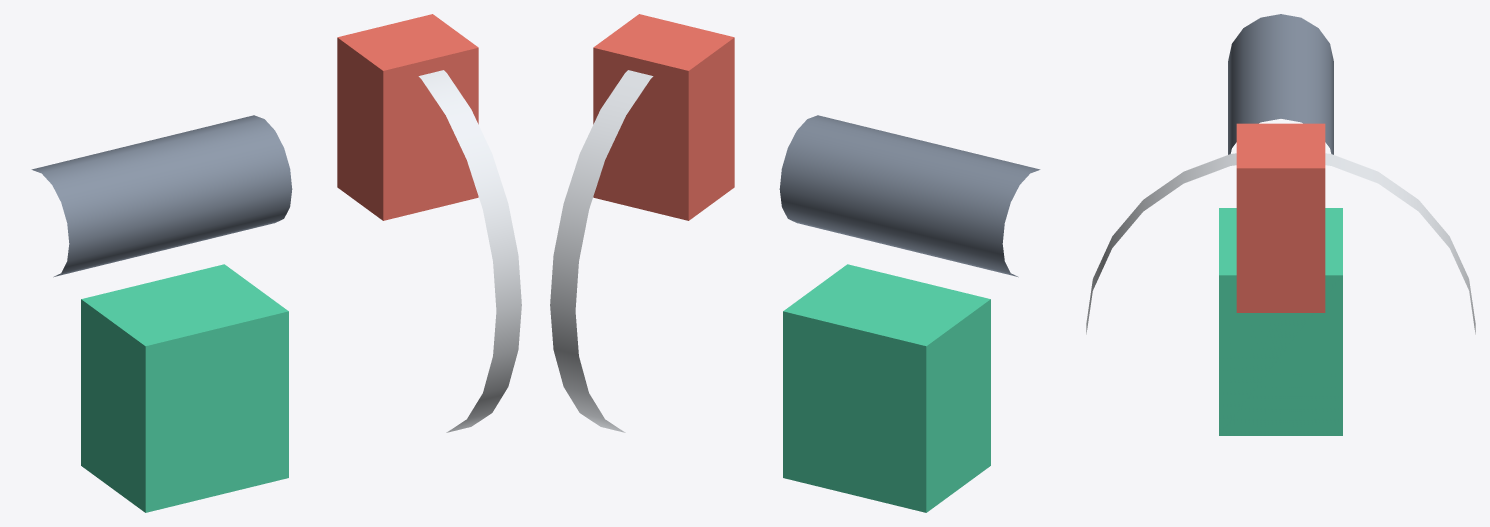
Rendered from automotive_braking_abs.glb.
The picture shows the model from 3 angles, left to right: view 1: azimuth 30°, elevation 25°; view 2: azimuth 150°, elevation 25°; view 3: azimuth 270°, elevation 25°; orthographic projection. The views are drawn at different scales.
Parts seen in each view (by area): view 1: ABSSolenoidHydraulicModulator, TandemMasterCylinderReservoir, HydraulicTwinPistonCaliper, VentilatedDiscBrakeRotor; view 2: ABSSolenoidHydraulicModulator, TandemMasterCylinderReservoir, HydraulicTwinPistonCaliper, VentilatedDiscBrakeRotor; view 3: ABSSolenoidHydraulicModulator, HydraulicTwinPistonCaliper, TandemMasterCylinderReservoir, VentilatedDiscBrakeRotor.
Part boxes in pixels (<box>): ABSSolenoidHydraulicModulator: <box>81,264,288,512</box>; TandemMasterCylinderReservoir: <box>31,115,292,277</box>; HydraulicTwinPistonCaliper: <box>337,14,478,220</box>; VentilatedDiscBrakeRotor: <box>418,70,521,432</box>; ABSSolenoidHydraulicModulator: <box>783,264,990,512</box>; TandemMasterCylinderReservoir: <box>779,115,1040,277</box>; HydraulicTwinPistonCaliper: <box>593,14,734,220</box>; VentilatedDiscBrakeRotor: <box>550,70,653,432</box>; ABSSolenoidHydraulicModulator: <box>1219,208,1342,435</box>; HydraulicTwinPistonCaliper: <box>1236,123,1325,312</box>; TandemMasterCylinderReservoir: <box>1228,14,1333,154</box>; VentilatedDiscBrakeRotor: <box>1086,153,1475,334</box>.
Size of the model in its own units: 1.3 by 1.13 by 1.1.
